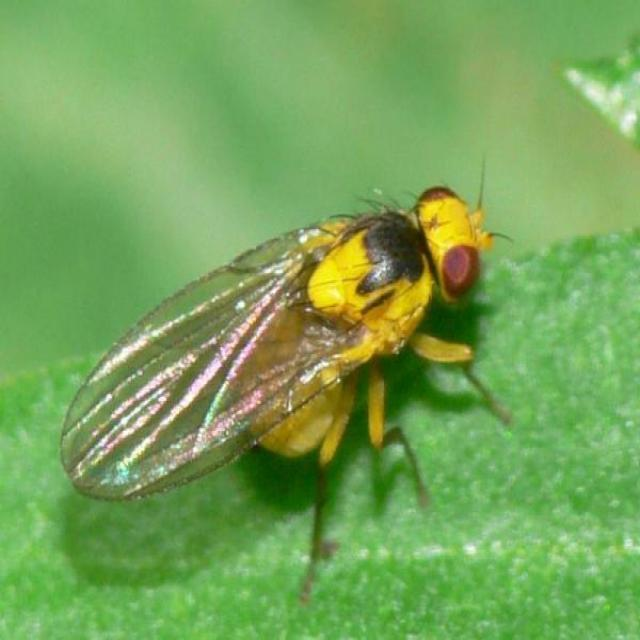Serpentine leafminer: (52, 149, 528, 612)
